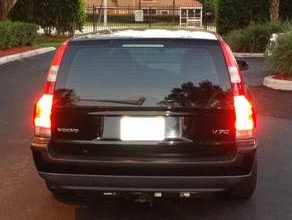volvo: (14, 16, 292, 215)
